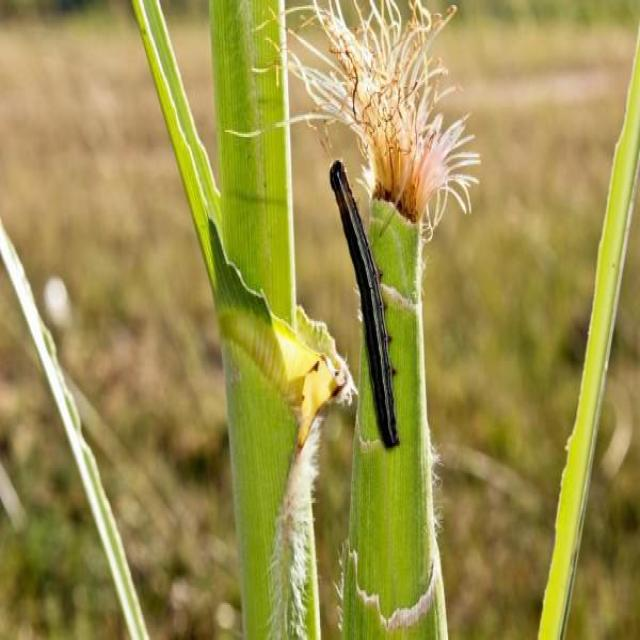armyworm: (324, 155, 409, 454)
